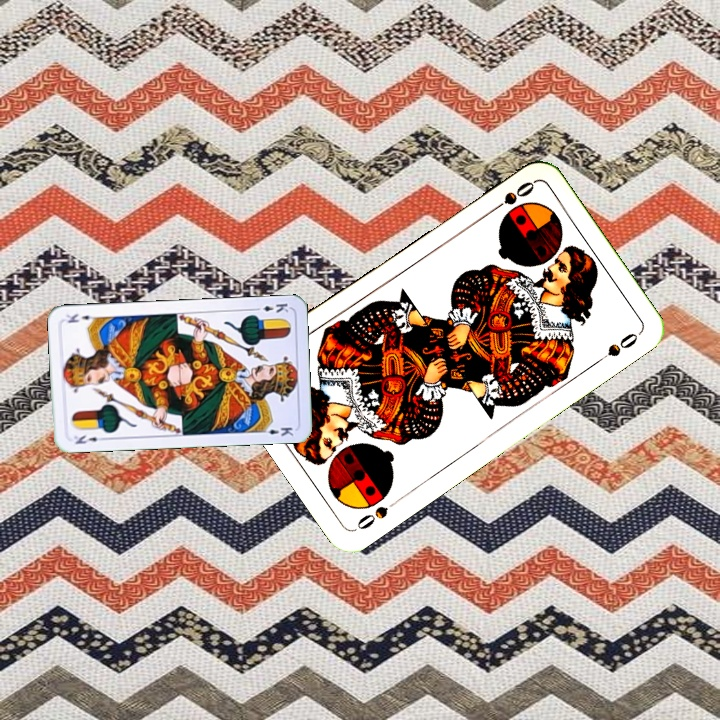EK: (250, 299, 291, 315), (70, 431, 108, 447)
SO: (485, 177, 537, 217), (351, 494, 403, 533)
